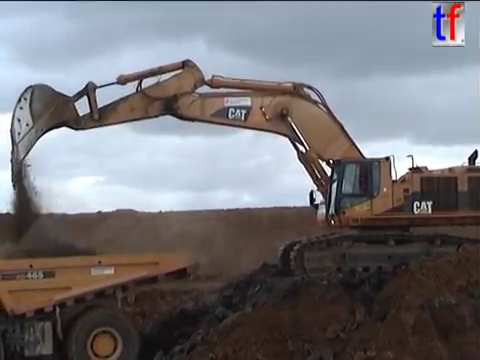excavator: (7, 56, 480, 291)
truck: (1, 247, 199, 359)
